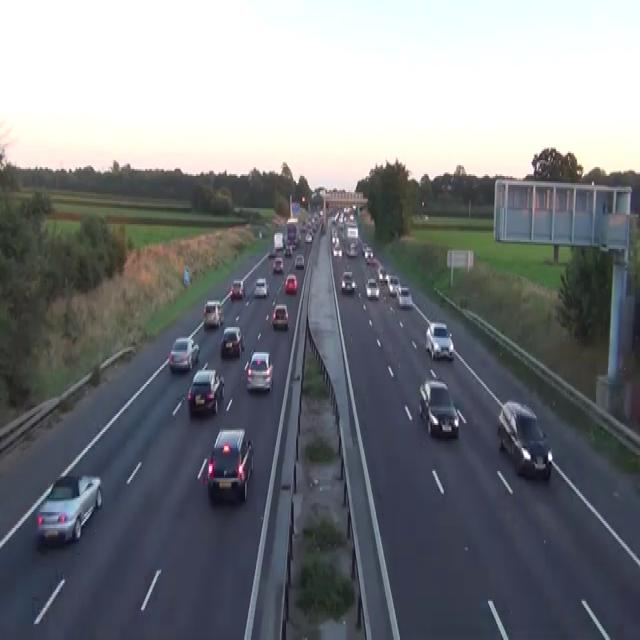Car: (36, 473, 102, 546), (497, 400, 552, 480), (206, 427, 254, 503), (418, 379, 459, 437), (187, 368, 224, 416), (244, 348, 273, 393), (168, 336, 199, 372), (425, 322, 454, 359), (220, 326, 244, 358), (203, 301, 224, 327), (271, 304, 288, 329), (396, 284, 413, 308), (340, 270, 356, 292), (364, 277, 379, 299), (229, 279, 245, 299), (253, 277, 268, 297), (284, 274, 297, 293), (388, 276, 400, 295), (378, 265, 389, 283), (272, 256, 283, 272), (346, 242, 358, 256), (332, 240, 342, 256), (362, 244, 373, 258), (346, 226, 358, 238), (294, 254, 304, 268), (342, 270, 353, 281), (366, 249, 374, 263), (366, 254, 376, 265), (304, 231, 313, 242), (331, 231, 338, 245), (284, 244, 292, 256), (268, 249, 275, 258), (258, 228, 262, 238), (319, 208, 323, 217)
Truck: (286, 217, 299, 247), (273, 231, 284, 251)
